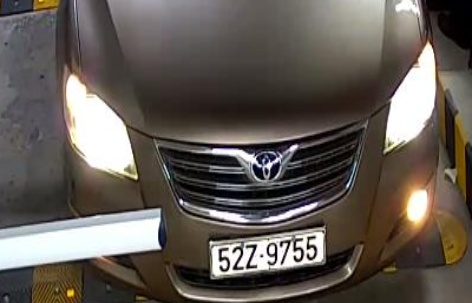plate: (204, 228, 335, 280)
